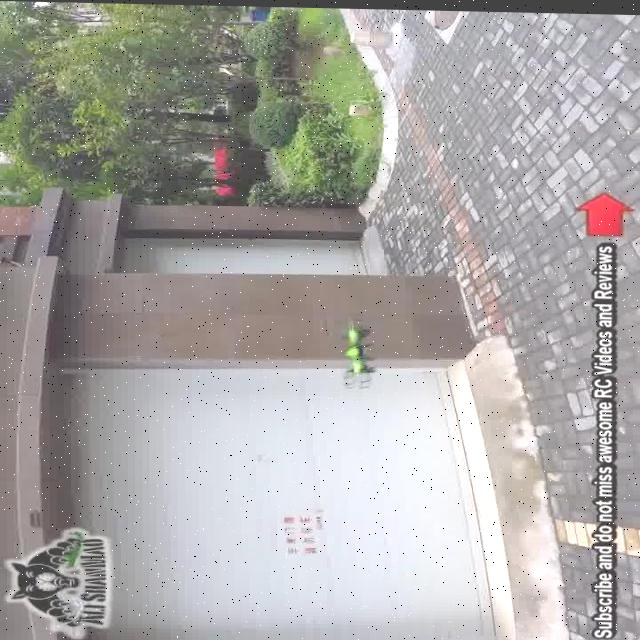drone: (324, 310, 388, 394)
